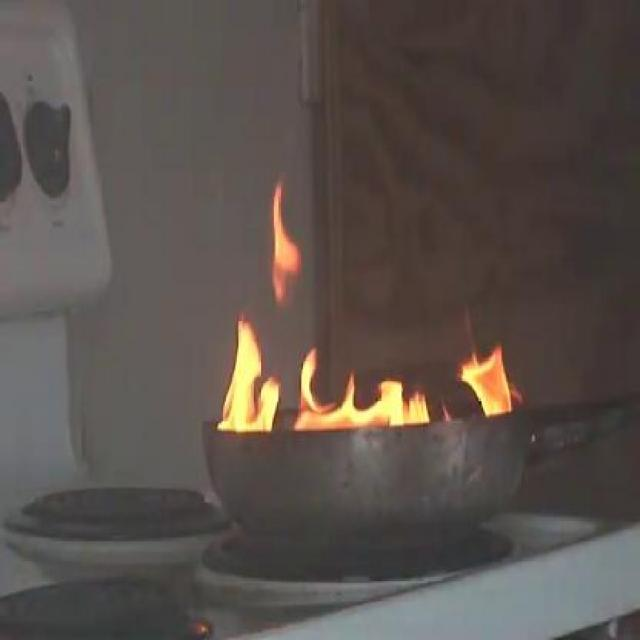fire: (298, 346, 442, 432), (212, 306, 278, 432), (266, 179, 302, 298), (453, 354, 515, 418)
